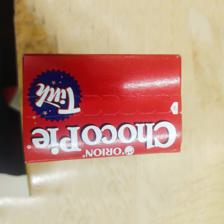Chocopie: (20, 50, 185, 164)
